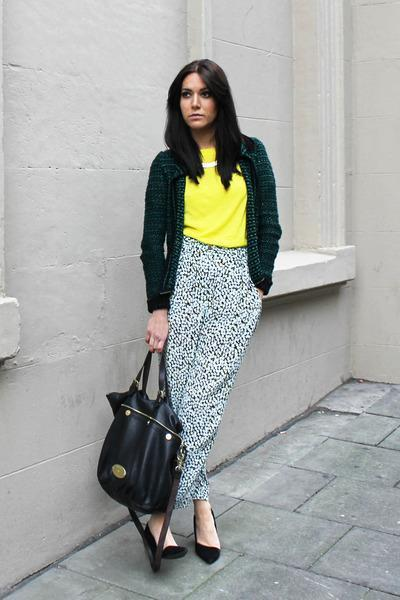bag: (97, 339, 193, 513)
jacket: (140, 136, 281, 312)
pants: (146, 237, 267, 515)
shirt: (183, 146, 246, 247)
shoe: (194, 540, 219, 564)
